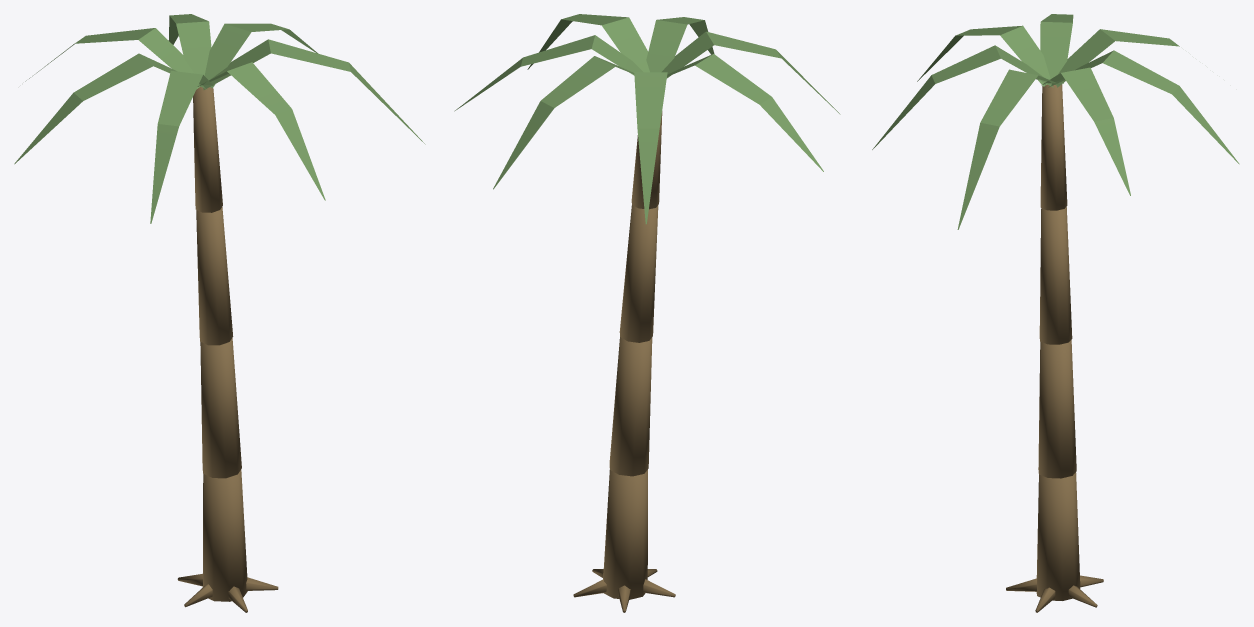
The model's file is palm_far.glb.
3 views of the same model, side by side, from view 1: azimuth 30°, elevation 25°; view 2: azimuth 150°, elevation 25°; view 3: azimuth 270°, elevation 25° (orthographic). The views are drawn at different scales.
Visible parts, largest first — view 1: palm_far; view 2: palm_far; view 3: palm_far.
Boxes of the visible parts, box(x1,y1,x2,y2) form: palm_far: box(14, 14, 425, 612); palm_far: box(454, 14, 840, 612); palm_far: box(872, 14, 1239, 612).
Size of the model in its own units: 8.4 by 12.5 by 7.8.
